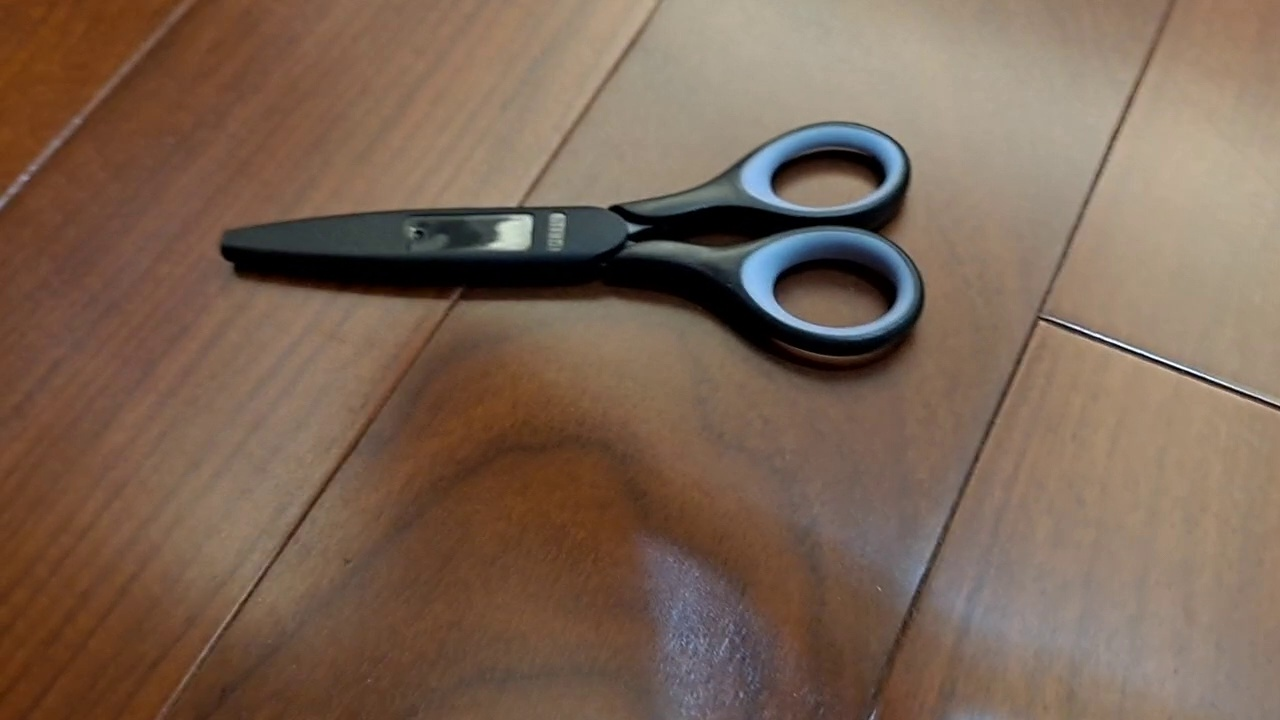scissors: (217, 118, 926, 358)
